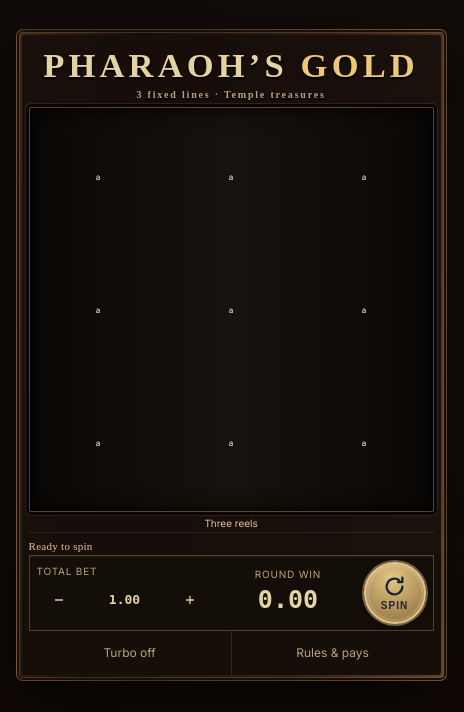
Test case: slot round ownership and accessible controls › refunds a result-generation error and unlocks the next spin
Click the button with aria-label "Spin · 1.00". click: (395, 593)
box: [364, 562, 426, 624]
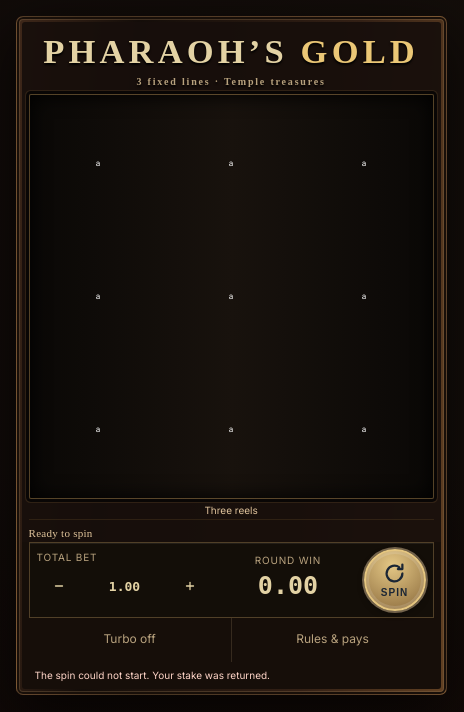
Expected: the button with aria-label "Spin · 1.00" is enabled, [364, 548, 426, 610]
Expected: the message "The spin could not start. Your stake was returned." is shown, [35, 668, 270, 680]
